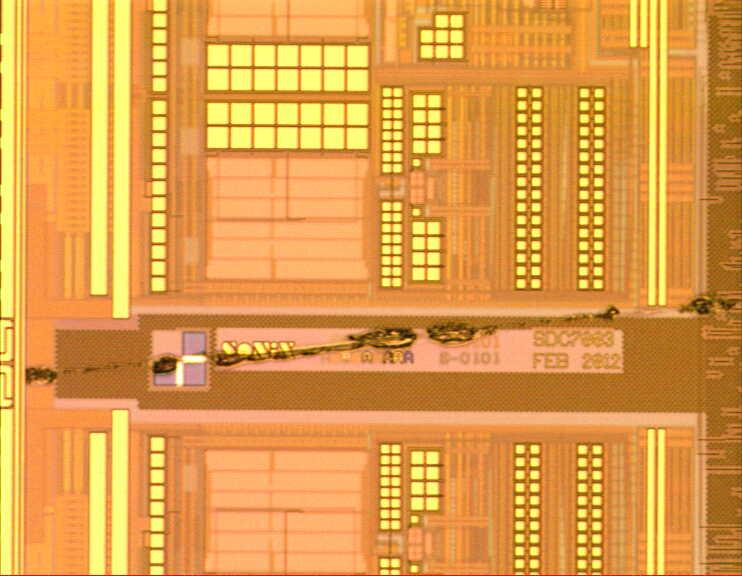SCRATCH: (15, 285, 742, 396)
